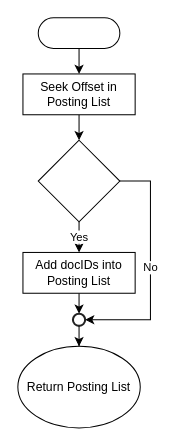
Some shapes in this 176 by 446 pixel diagram are drawn without their labels. Each missing label, with the centre of its shape:
"In Range?" belongs at (x=78, y=180).
"MULAI" belongs at (x=78, y=32).
